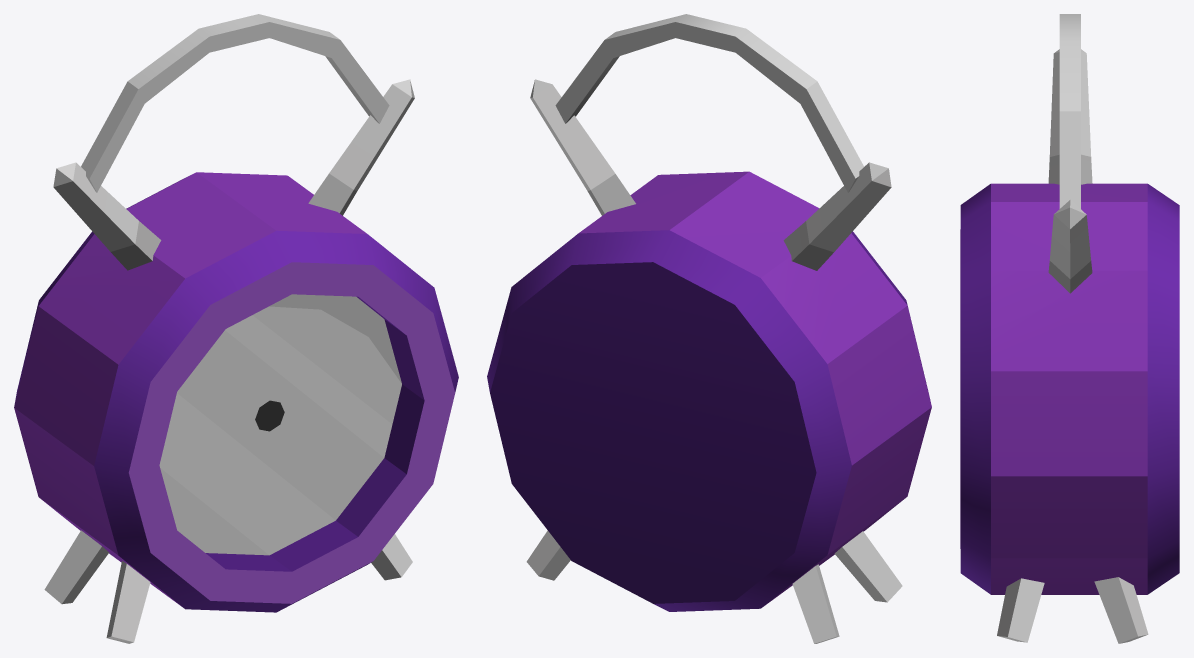
File: goodTimesPurpleClockBody.glb
The picture shows the model from 3 angles, left to right: view 1: azimuth 30°, elevation 25°; view 2: azimuth 150°, elevation 25°; view 3: azimuth 270°, elevation 25°; orthographic projection. The views are drawn at different scales.
Parts seen in each view (by area): view 1: goodTimesPurpleClockBody; view 2: goodTimesPurpleClockBody; view 3: goodTimesPurpleClockBody.
Part boxes in pixels (left/top/right/bottom): goodTimesPurpleClockBody: left=14, top=14, right=458, bottom=643; goodTimesPurpleClockBody: left=487, top=14, right=931, bottom=643; goodTimesPurpleClockBody: left=960, top=14, right=1179, bottom=643.
Size of the model in its own units: 0.4318 by 0.6391 by 0.229.
